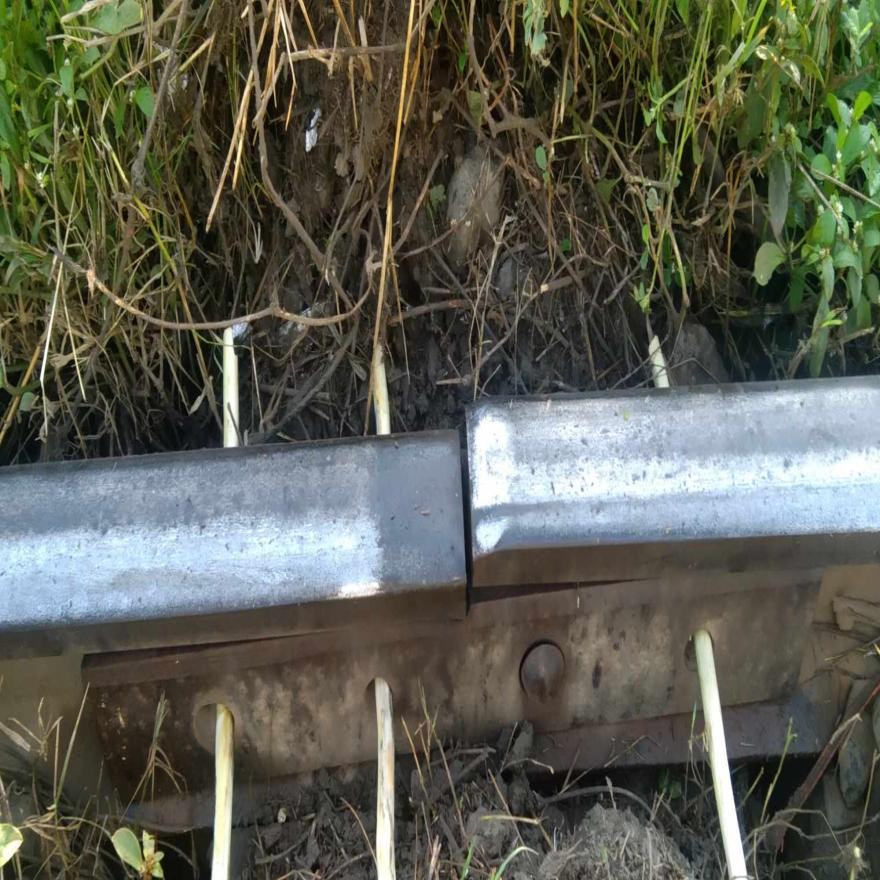railway-gap: (395, 377, 532, 648)
